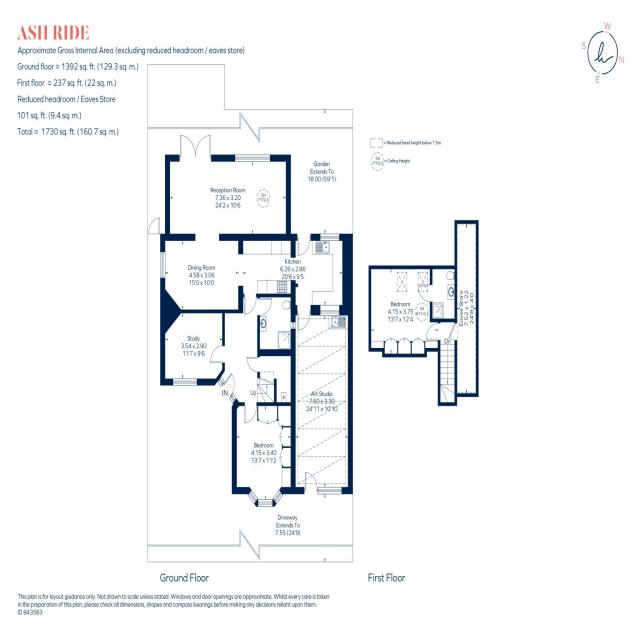DOOR: (296, 304, 311, 331), (221, 372, 235, 399), (296, 233, 311, 256), (417, 283, 433, 303), (243, 293, 257, 315), (210, 344, 225, 364), (244, 402, 257, 424), (257, 298, 272, 316), (426, 322, 440, 341)
DOUBLE DOOR: (179, 133, 212, 162)
ROOM: (160, 233, 353, 331), (165, 134, 291, 241), (368, 265, 441, 358), (232, 402, 296, 507), (160, 309, 225, 386)
WINDOW: (234, 153, 271, 163), (320, 304, 340, 316), (173, 378, 197, 386), (247, 489, 258, 505), (160, 251, 166, 279), (273, 489, 283, 505), (320, 233, 340, 241), (257, 499, 273, 507), (229, 392, 237, 404), (217, 376, 225, 387), (290, 322, 296, 329)
